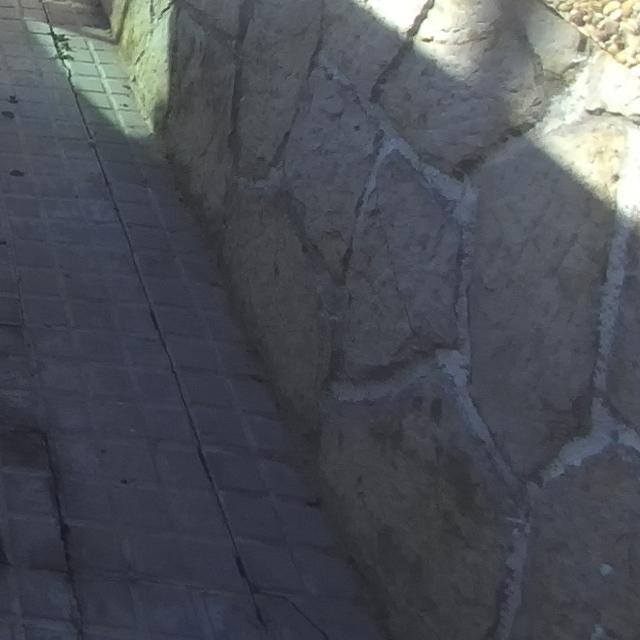calcada_quebrada: (258, 590, 333, 640)
